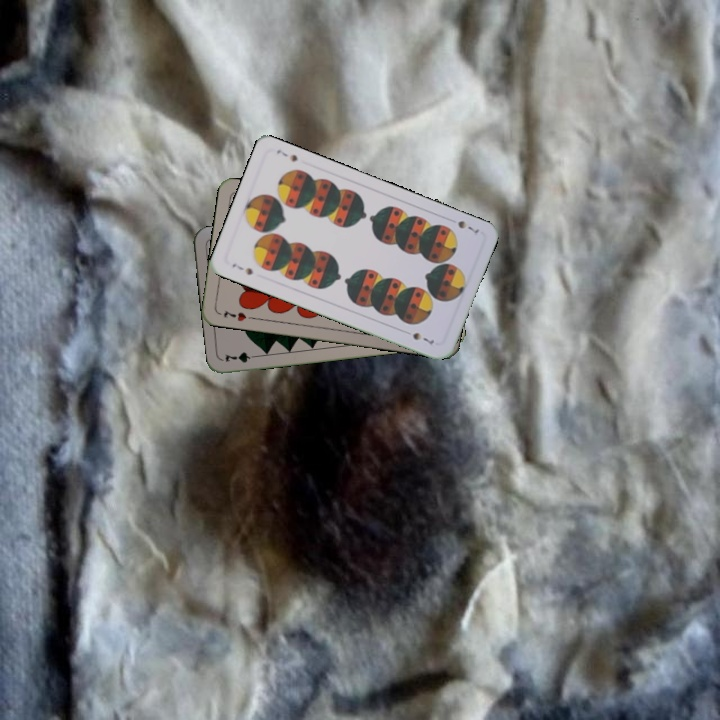G7: (221, 348, 262, 365)
H7: (220, 306, 256, 324)
S7: (454, 216, 482, 236), (228, 259, 255, 278)
